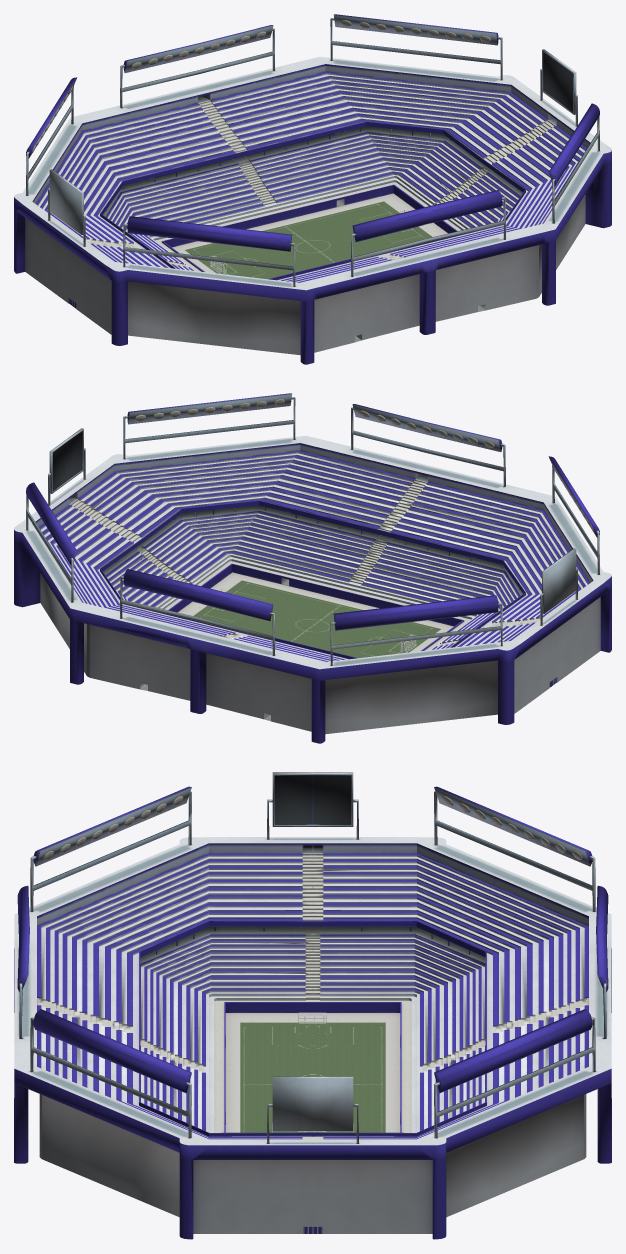
Rendered from Football Stadium.fbx.
The picture shows the model from 3 angles, top to bottom: view 1: azimuth 30°, elevation 25°; view 2: azimuth 150°, elevation 25°; view 3: azimuth 270°, elevation 25°; orthographic projection. The views are drawn at different scales.
Visible parts, largest first — view 1: Stadium; view 2: Stadium; view 3: Stadium.
Boxes of the visible parts, x1=… form: Stadium: x1=14, y1=14, x2=611, y2=364; Stadium: x1=14, y1=393, x2=611, y2=743; Stadium: x1=14, y1=772, x2=611, y2=1239.
Bounding box in the file's own units: 39247 × 9527 × 32174.
